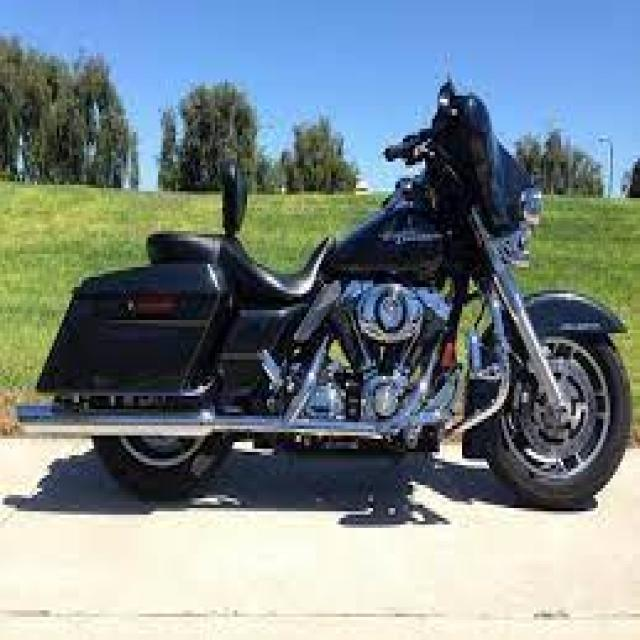MOTORCYCLE: (27, 162, 632, 512)
